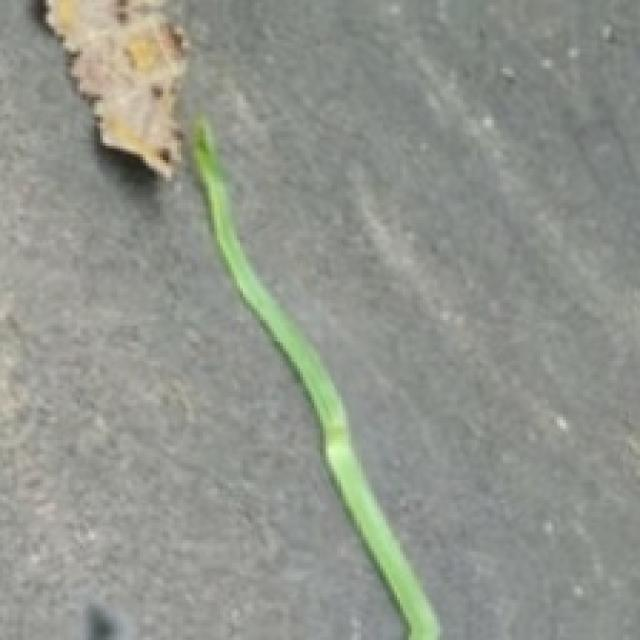red-tailed green ratsnake: (191, 111, 437, 637), (191, 114, 437, 637)
